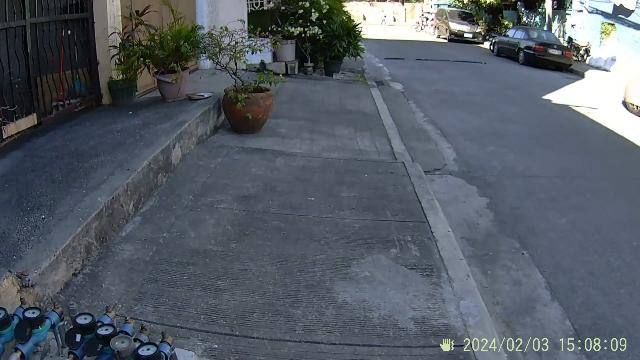car: (488, 19, 576, 73)
potted_plant: (148, 38, 192, 106), (221, 82, 273, 134), (320, 28, 344, 80), (272, 18, 298, 62)
